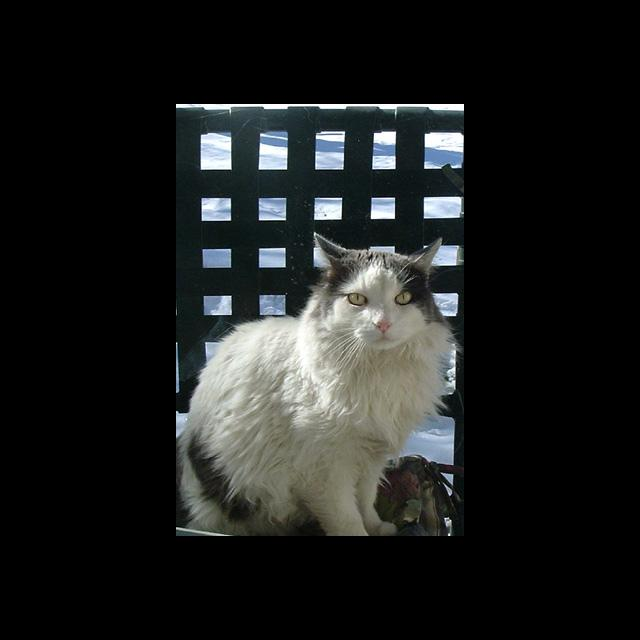animals: (316, 234, 440, 331)
